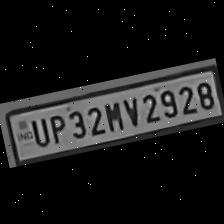2: (136, 88, 161, 123), (172, 80, 197, 115), (82, 100, 106, 136)
3: (62, 104, 87, 140)
8: (190, 75, 216, 110)
9: (154, 84, 178, 118)
M: (101, 96, 125, 132)
P: (44, 110, 68, 144)
U: (26, 114, 50, 146)
V: (118, 92, 140, 128)
